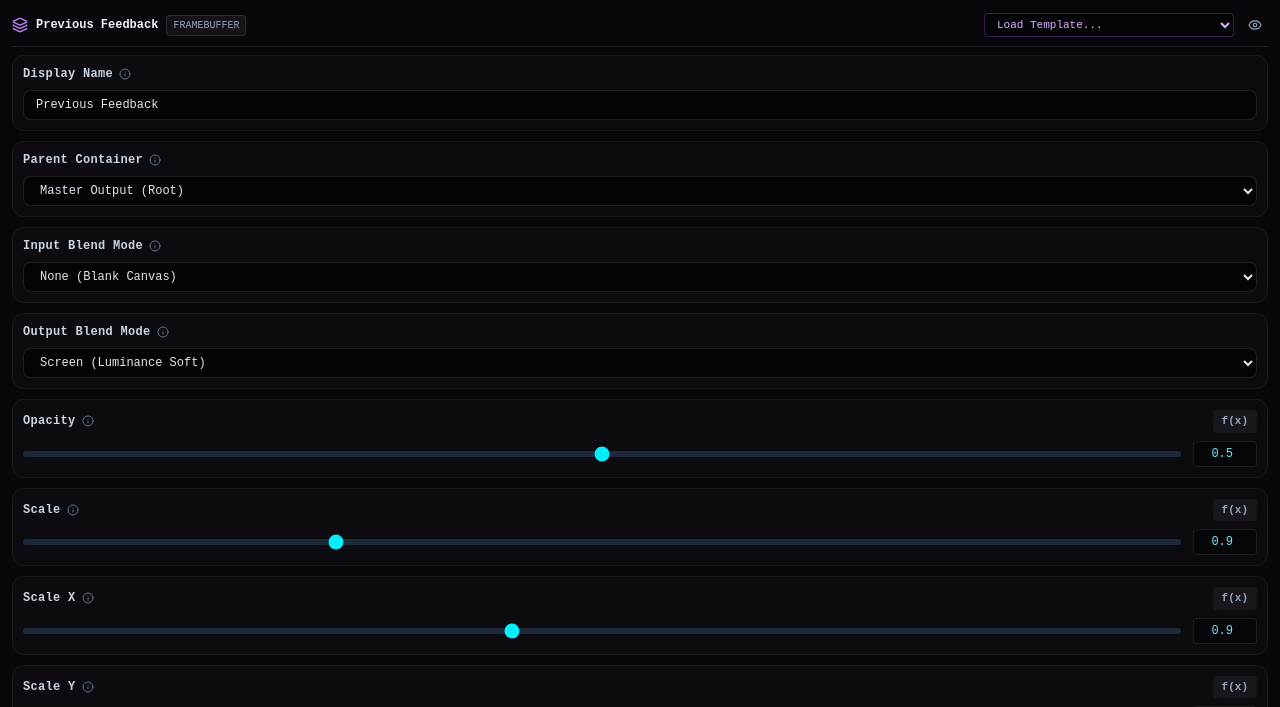
Test case: Component Preset Selector & Dirty-State Overwrite Guard (Task 3.4) › Template Overwrite Confirmation Modal › confirms template overwrite when clicking Overwrite & Apply
The width and height of the screenshot is (1280, 707).
Select "Analog Phosphor Trails" in the dropdown with test id "component-preset-dropdown" at (1109, 25), box left=984, top=13, right=1234, bottom=37
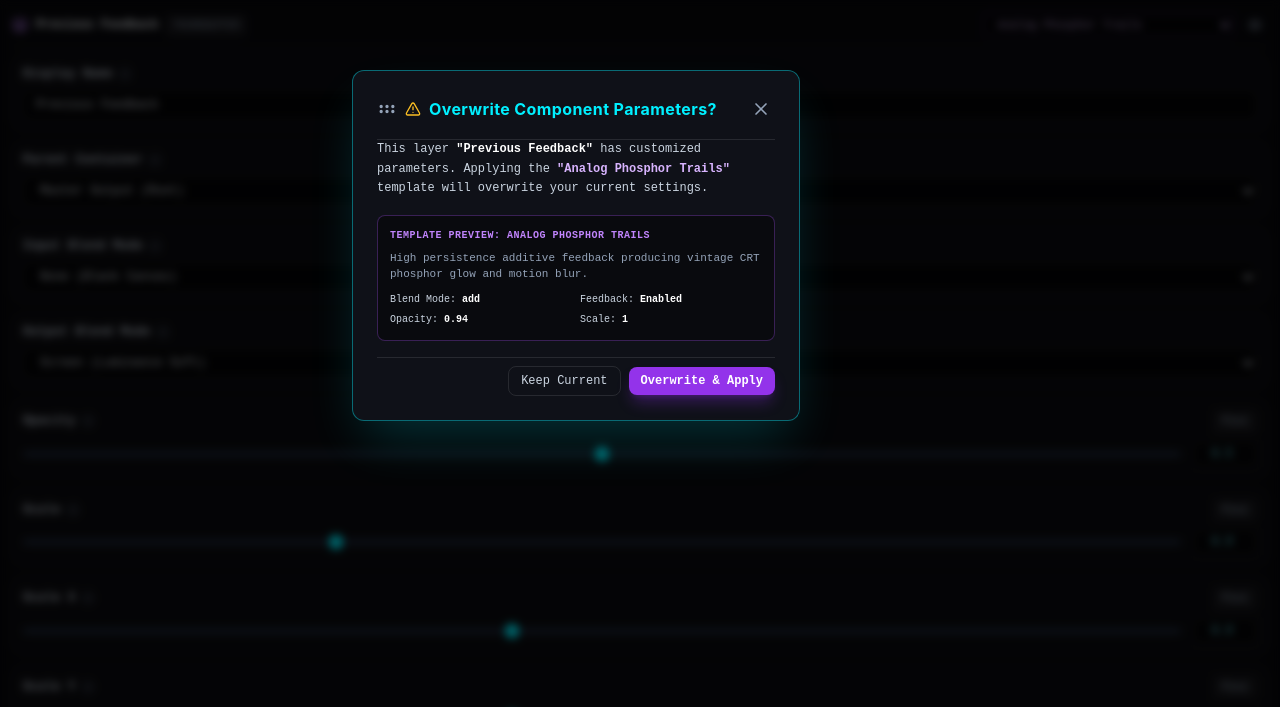
Expected: the heading "Overwrite Component Parameters?" is shown, left=429, top=97, right=717, bottom=121
// Click Overwrite & Apply
Click the button with test id "confirm-overwrite-template-btn" at (702, 380), box left=629, top=366, right=775, bottom=394
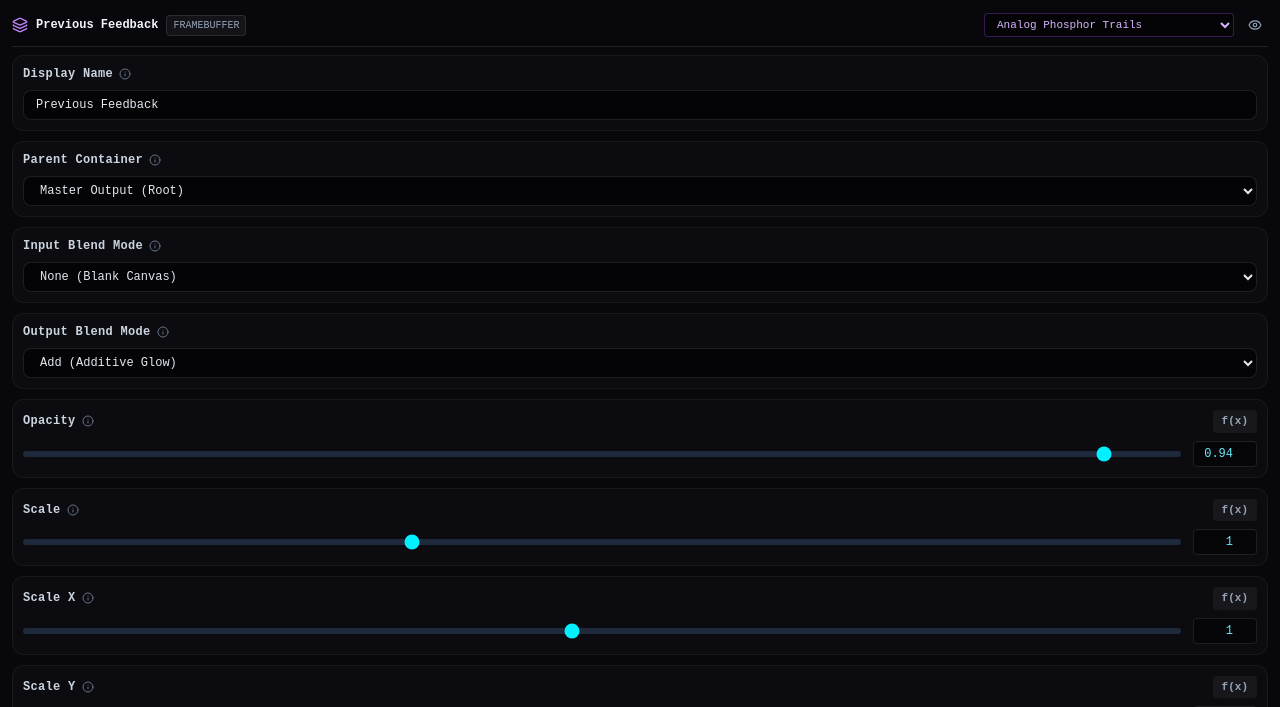
Expected: the heading "Overwrite Component Parameters?" is gone
